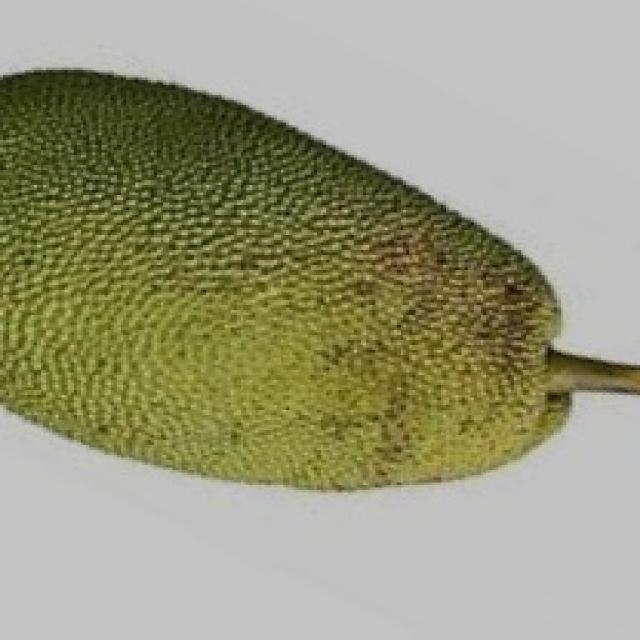Fruit: (0, 42, 409, 458), (262, 103, 603, 515)
